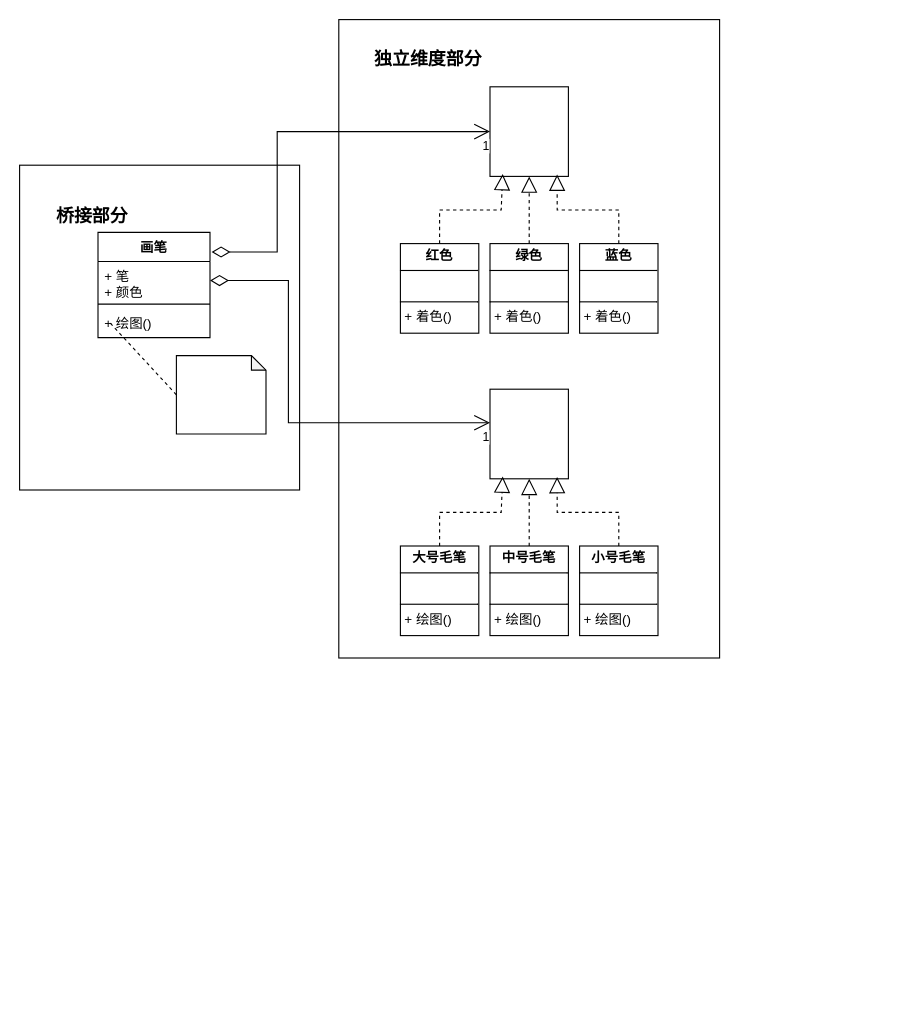
Image size: 902x1036. Some labels were removed from this diagram. Here are the shapes that lost their labels. From the top down, the box of each, then its label:
(489, 86, 568, 176): 颜色 + 着色()
(175, 354, 266, 434): 笔.绘图() 颜色.着色()
(489, 388, 568, 479): 毛笔 + 绘图()
